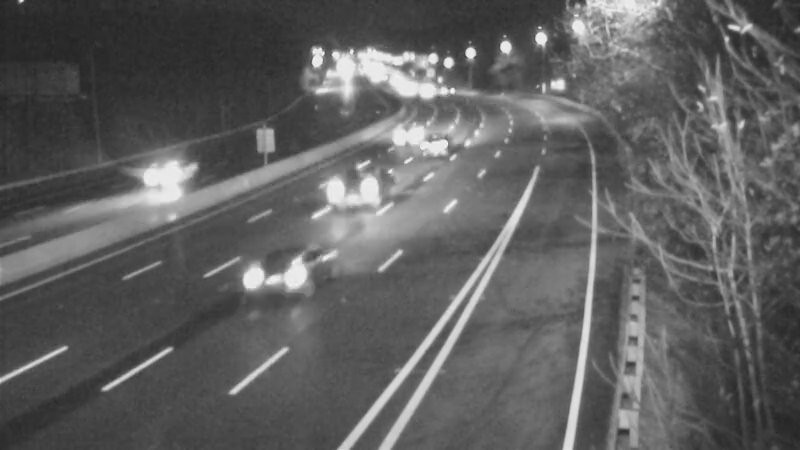vehicle: (314, 148, 394, 228), (239, 240, 319, 320), (134, 134, 214, 214), (421, 67, 471, 117), (403, 65, 453, 115), (383, 65, 433, 115), (381, 110, 431, 160), (406, 119, 456, 169)
